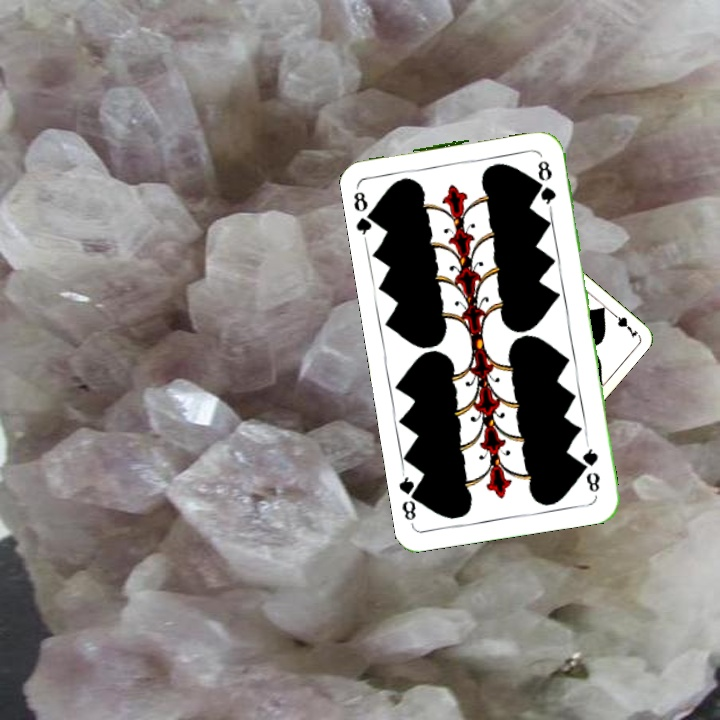G7: (606, 307, 640, 340)
G8: (349, 181, 381, 240), (578, 439, 603, 495)
